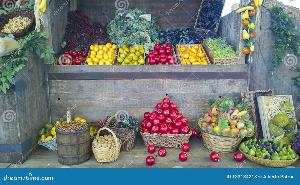apple: (140, 94, 196, 144), (146, 43, 176, 67), (57, 49, 89, 67)
grape: (62, 13, 110, 45), (111, 12, 159, 44), (158, 26, 206, 44), (194, 2, 224, 30), (208, 38, 238, 64), (95, 114, 137, 130)
pear: (176, 41, 208, 69), (116, 42, 146, 68)
